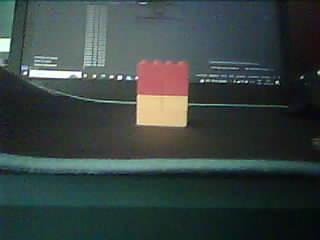lego: (136, 60, 190, 126)
